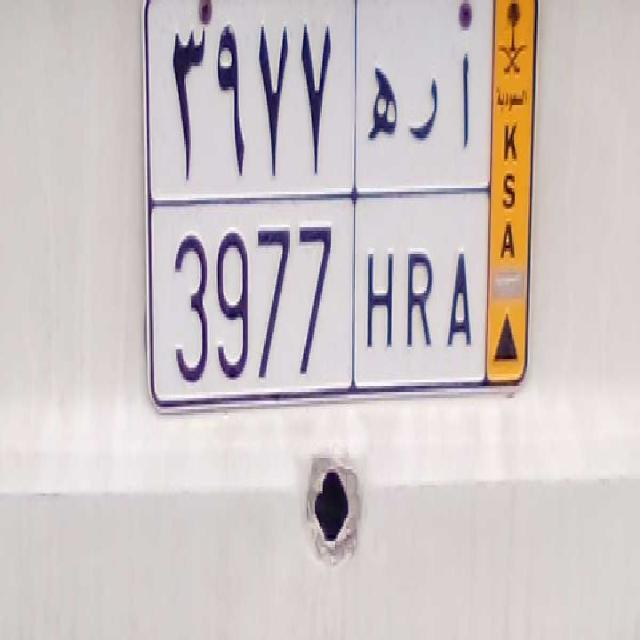license_plate: (151, 195, 488, 393)
